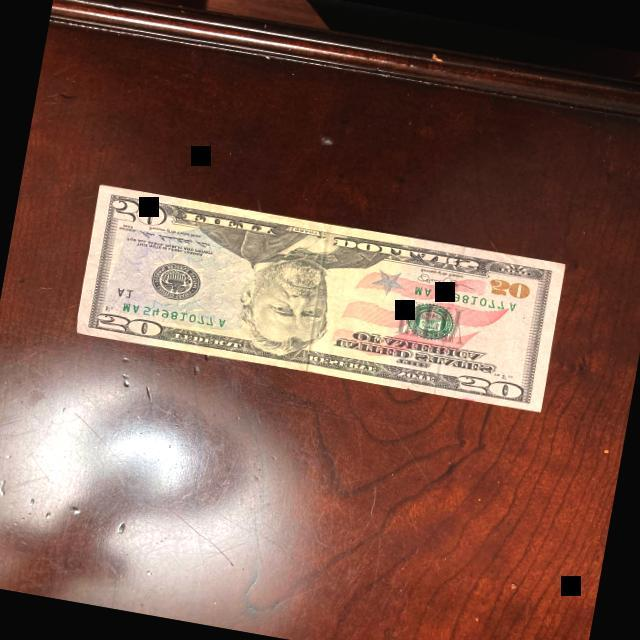fifty: (71, 180, 567, 413)
